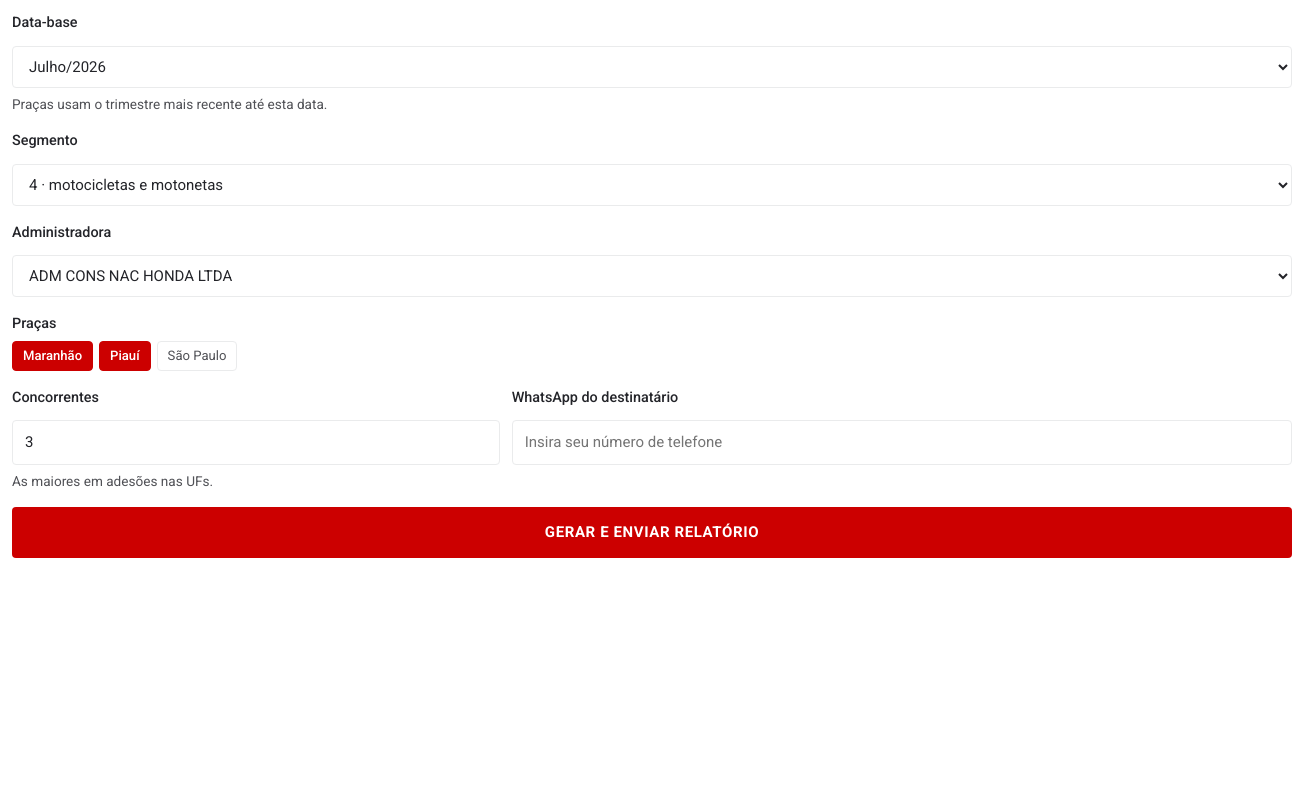
Test case: painel de consulta › sem praça, avisa e não envia
The width and height of the screenshot is (1304, 812).
Click the button "Piauí" at (125, 356), box [99,341,151,370]
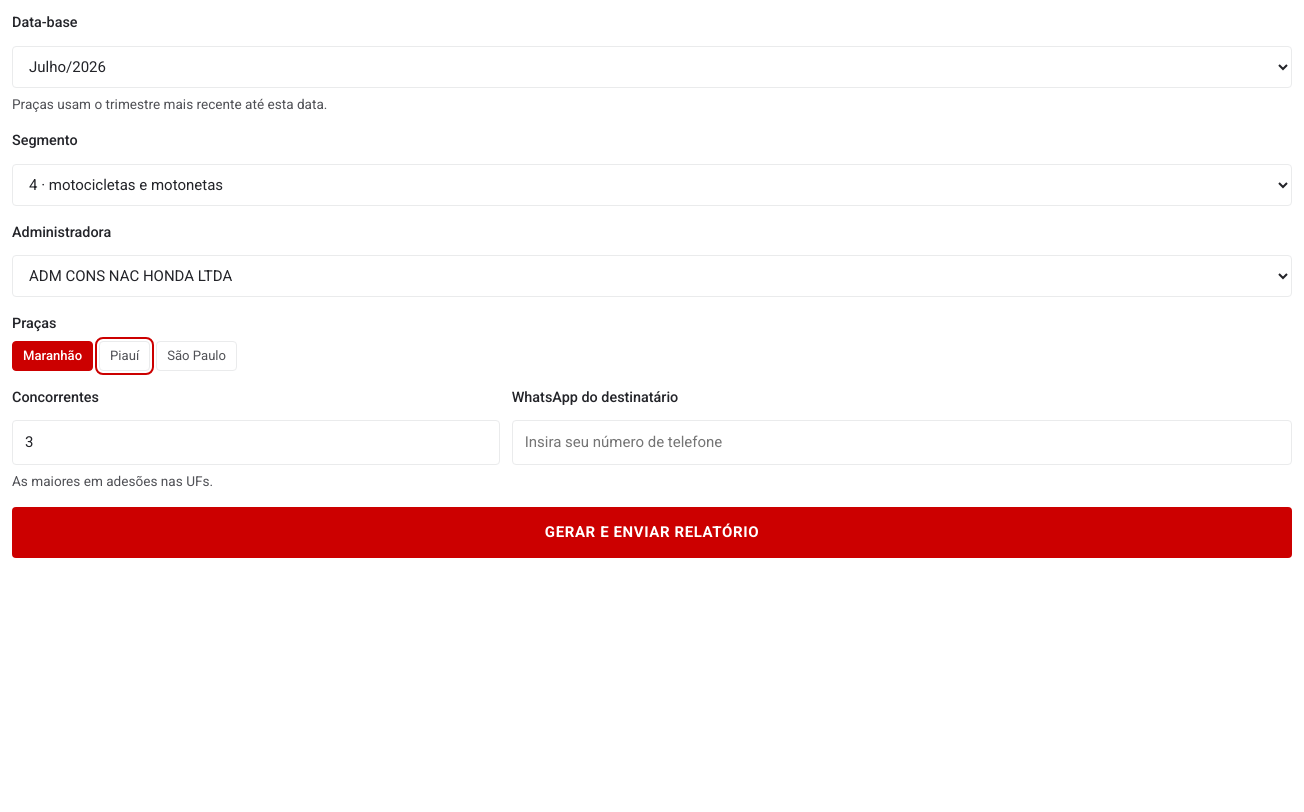
Click the button "Maranhão" at (53, 356), box [12,341,93,370]
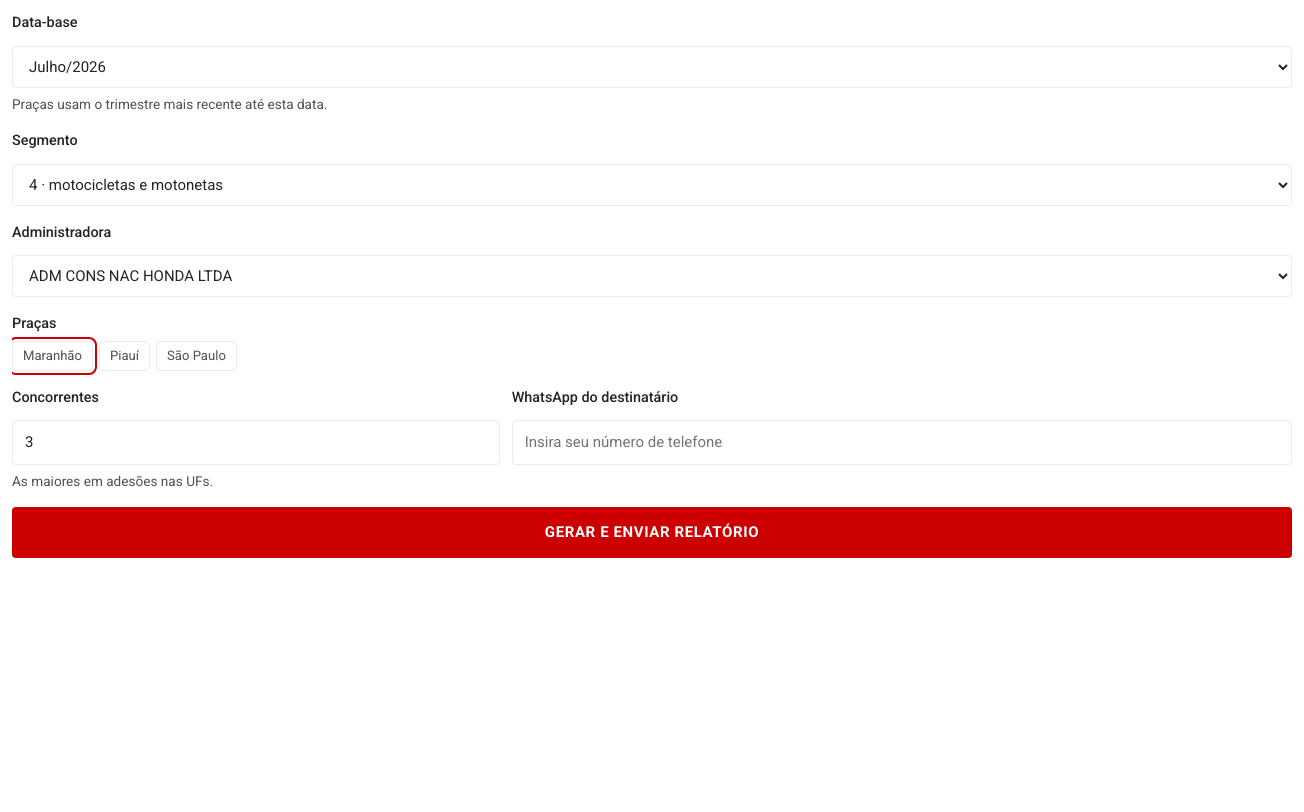
Click the button "Gerar e enviar relatório" at (652, 532), box [12,507,1292,558]
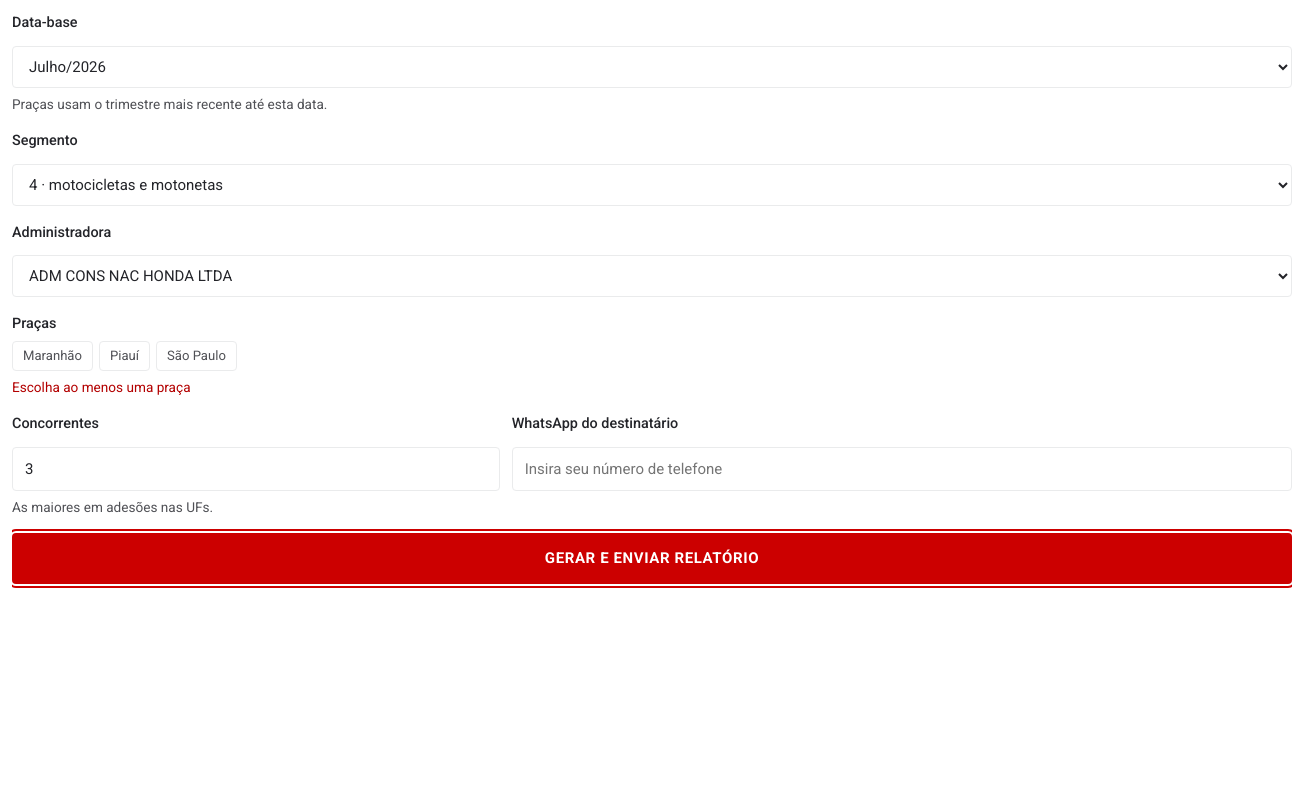
Now the text "Escolha ao menos uma praça" is shown, box [12,378,190,394]
